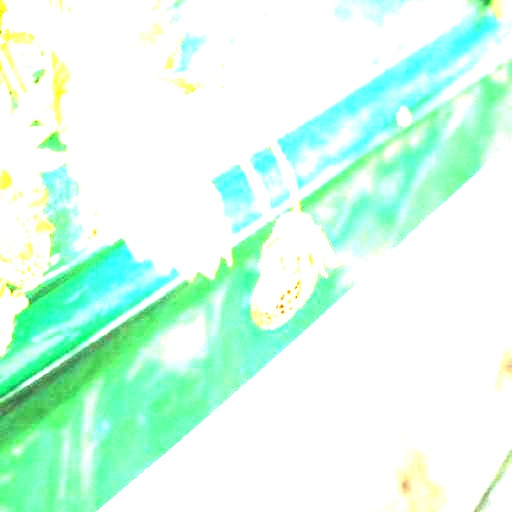Gray Mold: (251, 209, 338, 328)
